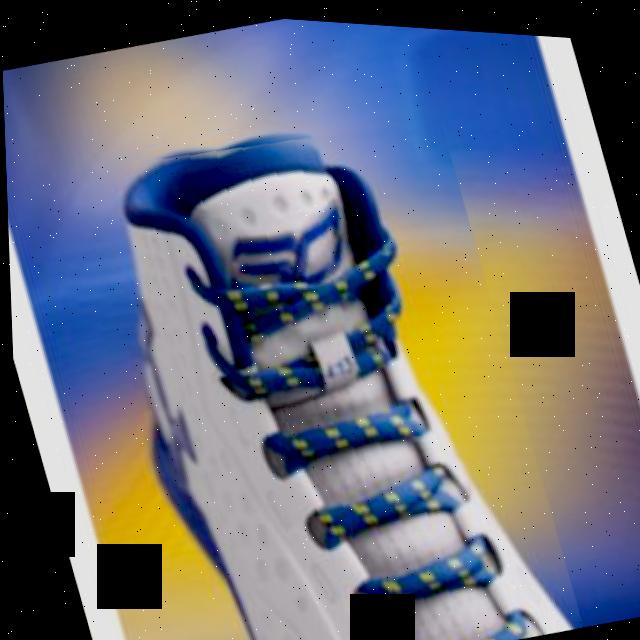shoe: (66, 78, 580, 640)
